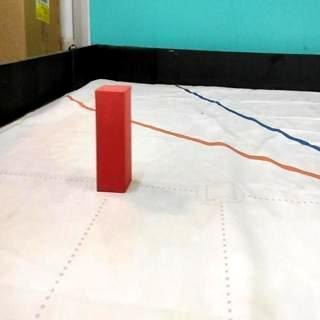redbox: (94, 82, 130, 198)
